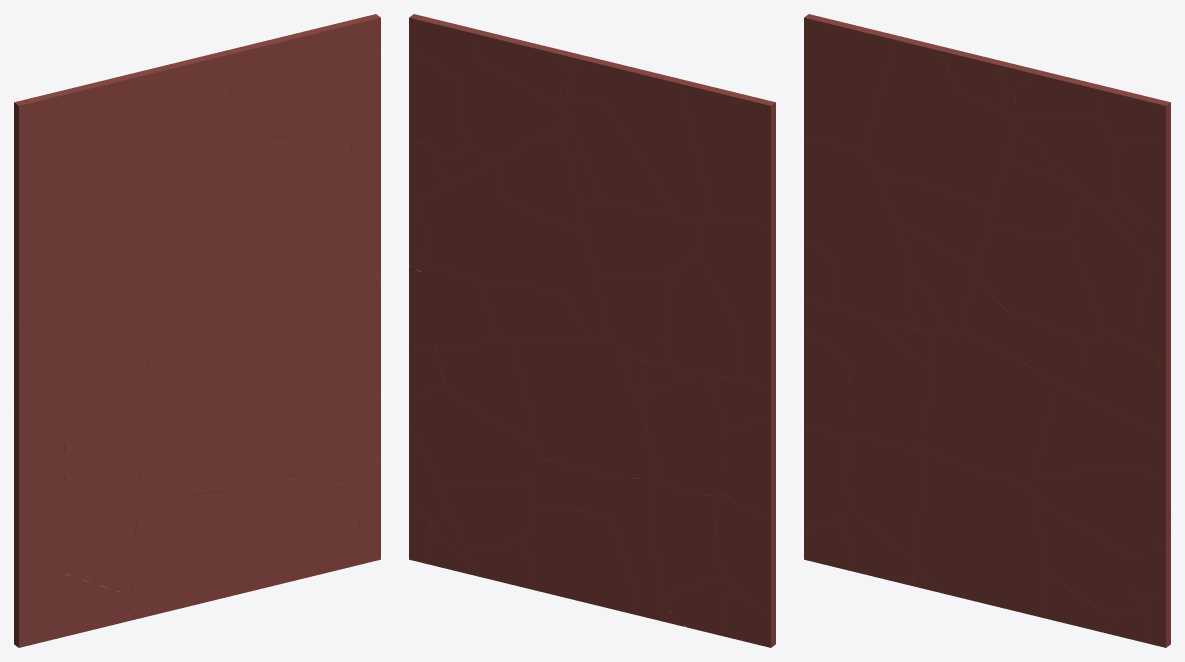
The model's file is wall05_Cx.fbx.
3 renders of one model, left to right at view 1: azimuth 30°, elevation 25°; view 2: azimuth 150°, elevation 25°; view 3: azimuth 330°, elevation 25°, orthographic.
Parts seen in each view (by area): view 1: wall05_C.001_cell.004_cell.005, wall05_C.001_cell.001_cell.004, wall05_C.001_cell.004_cell.014, wall05_C.001_cell.002_cell.004, wall05_C.001_cell.004_cell.002, wall05_C.001_cell.003_cell.013, wall05_C.001_cell.003_cell.002, wall05_C.001_cell.003_cell.004, wall05_C.001_cell.003_cell.008, wall05_C.001_cell.003_cell.001, wall05_C.001_cell.001_cell.008, wall05_C.001_cell.002_cell.010 (+37 smaller); view 2: wall05_C.001_cell.004_cell.005, wall05_C.001_cell.003_cell.004, wall05_C.001_cell.004_cell.014, wall05_C.001_cell.004_cell.002, wall05_C.001_cell.003_cell.001, wall05_C.001_cell.002_cell.004, wall05_C.001_cell.001_cell.004, wall05_C.001_cell.003_cell.009, wall05_C.001_cell.003_cell.008, wall05_C.001_cell.005_cell.005, wall05_C.001_cell.003_cell.013, wall05_C.001_cell.001_cell.008 (+39 smaller); view 3: wall05_C.001_cell.004_cell.005, wall05_C.001_cell.001_cell.004, wall05_C.001_cell.004_cell.014, wall05_C.001_cell.004_cell.002, wall05_C.001_cell.002_cell.004, wall05_C.001_cell.003_cell.002, wall05_C.001_cell.003_cell.004, wall05_C.001_cell.003_cell.013, wall05_C.001_cell.003_cell.008, wall05_C.001_cell.003_cell.001, wall05_C.001_cell.002_cell.010, wall05_C.001_cell.001_cell.008 (+37 smaller).
Boxes of the visible parts, x1=… form: wall05_C.001_cell.004_cell.005: x1=139, y1=342, x2=273, y2=476; wall05_C.001_cell.001_cell.004: x1=190, y1=194, x2=318, y2=300; wall05_C.001_cell.004_cell.014: x1=156, y1=489, x2=262, y2=614; wall05_C.001_cell.002_cell.004: x1=64, y1=373, x2=145, y2=498; wall05_C.001_cell.004_cell.002: x1=243, y1=391, x2=380, y2=484; wall05_C.001_cell.003_cell.013: x1=14, y1=212, x2=97, y2=333; wall05_C.001_cell.003_cell.002: x1=98, y1=102, x2=224, y2=221; wall05_C.001_cell.003_cell.004: x1=79, y1=66, x2=174, y2=223; wall05_C.001_cell.003_cell.008: x1=47, y1=250, x2=128, y2=380; wall05_C.001_cell.003_cell.001: x1=17, y1=80, x2=109, y2=217; wall05_C.001_cell.001_cell.008: x1=285, y1=144, x2=365, y2=273; wall05_C.001_cell.002_cell.010: x1=62, y1=485, x2=138, y2=594; wall05_C.001_cell.004_cell.005: x1=513, y1=339, x2=650, y2=478; wall05_C.001_cell.003_cell.004: x1=603, y1=69, x2=712, y2=223; wall05_C.001_cell.004_cell.014: x1=525, y1=506, x2=636, y2=614; wall05_C.001_cell.004_cell.002: x1=409, y1=389, x2=544, y2=487; wall05_C.001_cell.003_cell.001: x1=681, y1=80, x2=768, y2=222; wall05_C.001_cell.002_cell.004: x1=644, y1=372, x2=725, y2=495; wall05_C.001_cell.001_cell.004: x1=474, y1=200, x2=593, y2=291; wall05_C.001_cell.003_cell.009: x1=579, y1=201, x2=701, y2=279; wall05_C.001_cell.003_cell.008: x1=664, y1=252, x2=741, y2=380; wall05_C.001_cell.005_cell.005: x1=456, y1=60, x2=560, y2=161; wall05_C.001_cell.003_cell.013: x1=697, y1=215, x2=775, y2=323; wall05_C.001_cell.001_cell.008: x1=420, y1=161, x2=505, y2=274; wall05_C.001_cell.004_cell.005: x1=924, y1=330, x2=1058, y2=483; wall05_C.001_cell.001_cell.004: x1=975, y1=230, x2=1103, y2=340; wall05_C.001_cell.004_cell.014: x1=941, y1=491, x2=1047, y2=615; wall05_C.001_cell.004_cell.002: x1=1028, y1=464, x2=1170, y2=560; wall05_C.001_cell.002_cell.004: x1=849, y1=316, x2=930, y2=451; wall05_C.001_cell.003_cell.002: x1=883, y1=92, x2=1009, y2=198; wall05_C.001_cell.003_cell.004: x1=864, y1=36, x2=959, y2=172; wall05_C.001_cell.003_cell.013: x1=804, y1=136, x2=882, y2=260; wall05_C.001_cell.003_cell.008: x1=832, y1=200, x2=913, y2=329; wall05_C.001_cell.003_cell.001: x1=812, y1=15, x2=898, y2=152; wall05_C.001_cell.002_cell.010: x1=847, y1=434, x2=923, y2=558; wall05_C.001_cell.001_cell.008: x1=1070, y1=192, x2=1150, y2=339.
Bounding box in the file's own units: 854 × 1222 × 20.22.
